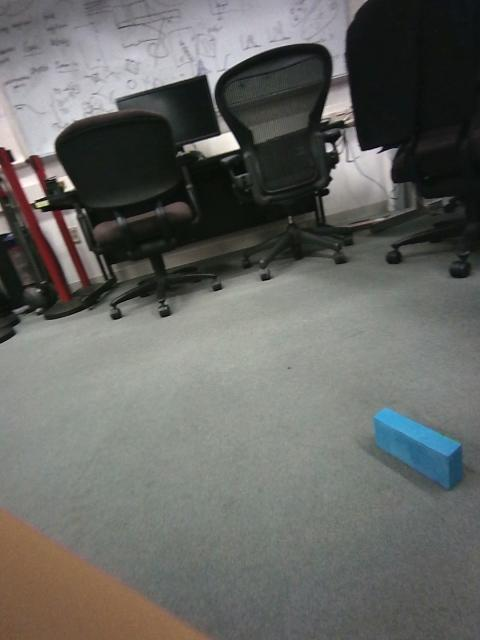block: (116, 294, 149, 319)
